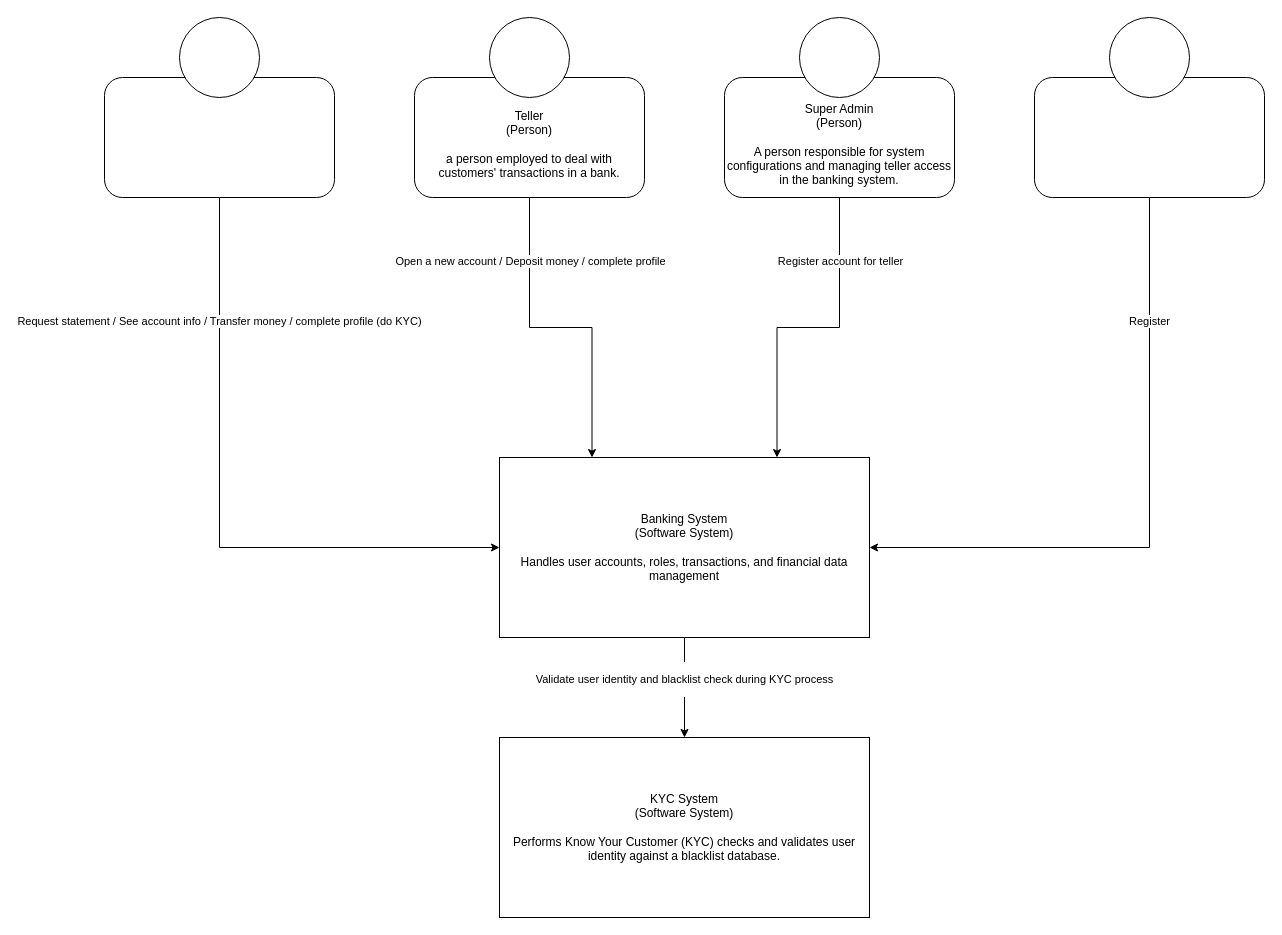
The diagram is 1282 pixels wide and 935 high, and some of its shapes have lost their labels. The centre of each missing label's shape, as x and y in pixels:
"Customer (Person) An individual who has registered for banking services." belongs at [219,137].
"Person ( Unregistered User ) individual person who never done the registration." belongs at [1149,137].
